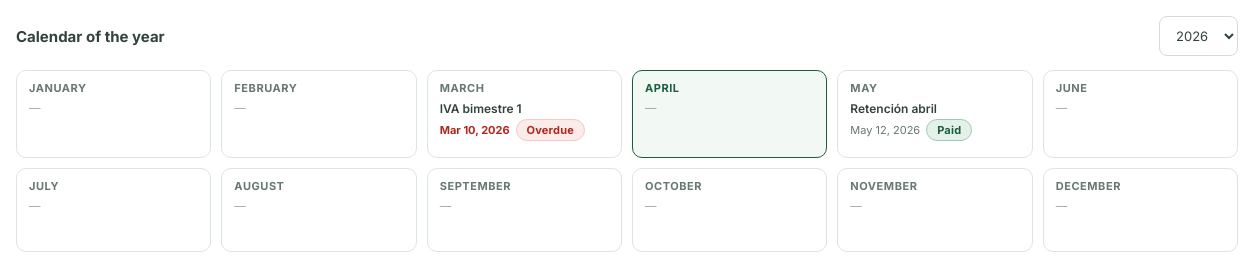
Test: ObligationCalendar › changes year from the selector
This screenshot has width=1255, height=269.
Select "2027" in the dropdown named "Year" at (1198, 36), box [1159,16,1238,56]
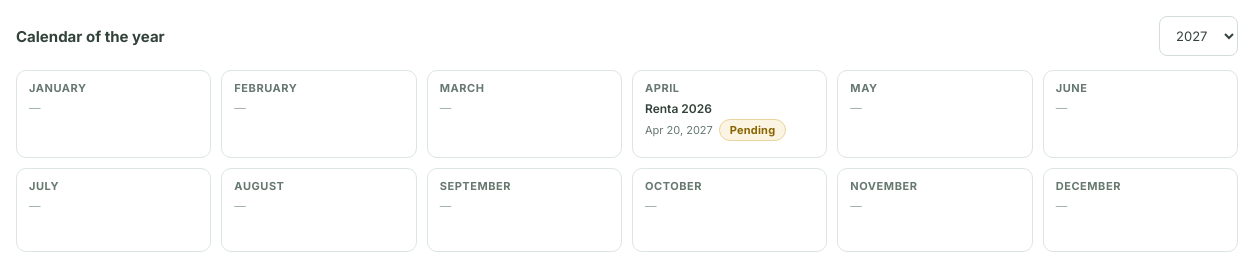
Expected: the text "Renta 2026" is shown, [645,101,712,116]
Expected: the text "IVA bimestre 1" is gone
Expected: the text "Overdue" is gone
